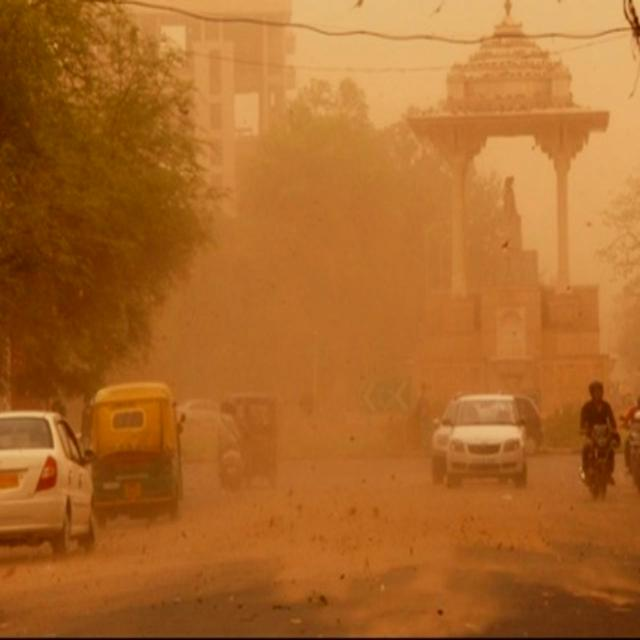Car: (89, 359, 195, 528), (0, 407, 99, 583), (449, 370, 532, 510), (227, 374, 287, 496), (419, 381, 458, 476)
Cycle: (570, 366, 624, 503)
